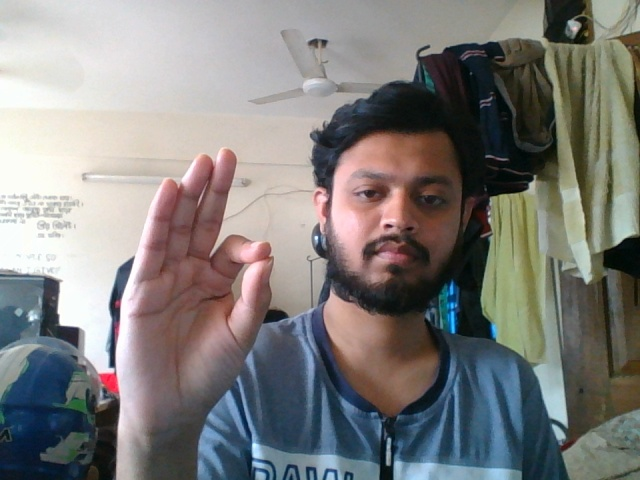ieo: (114, 144, 283, 463)
